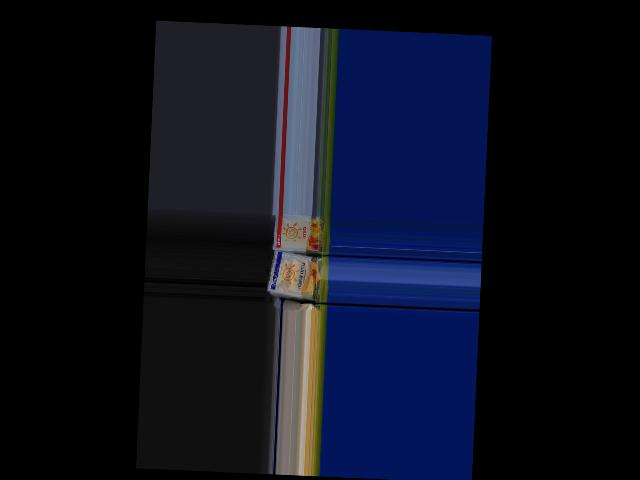cheese: (269, 212, 331, 253)
